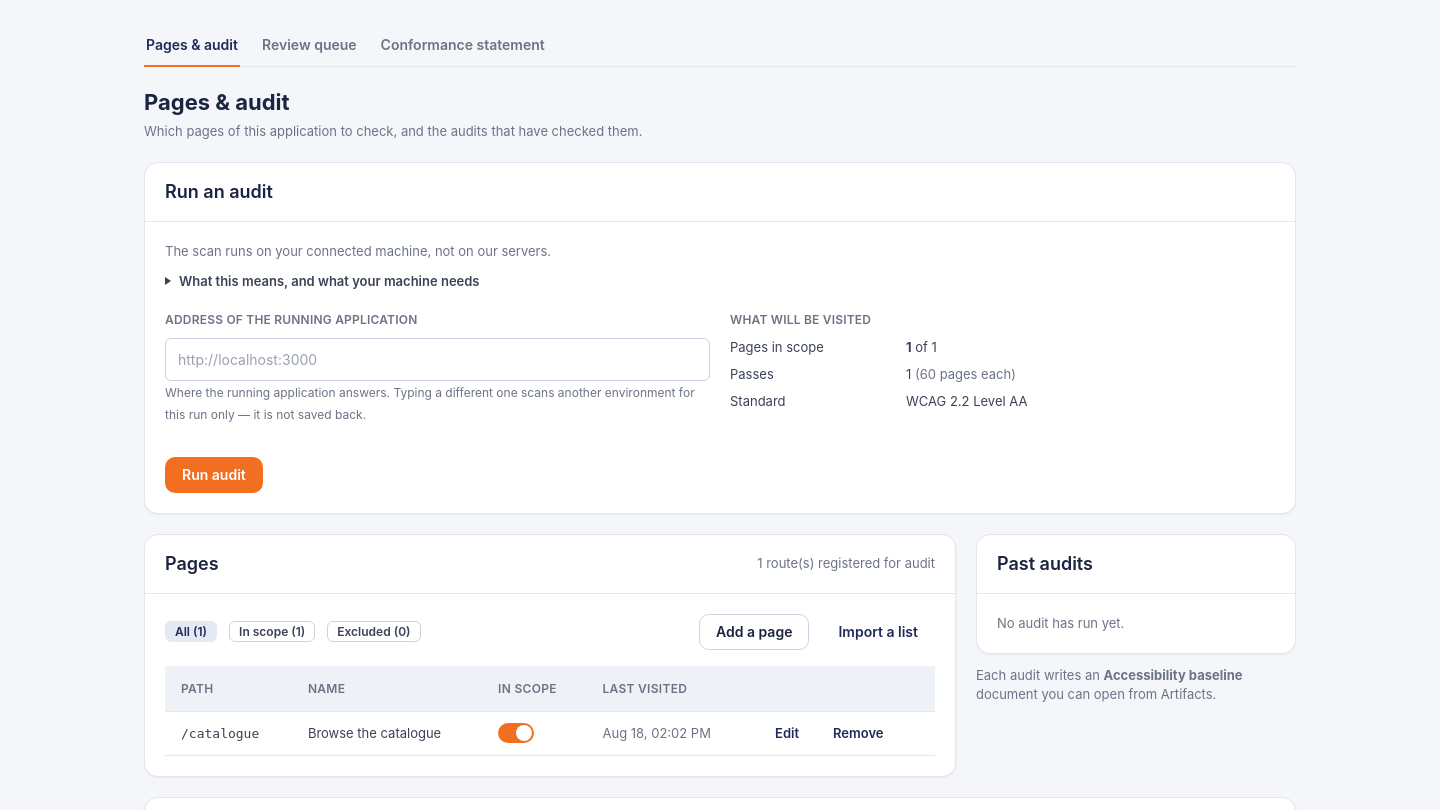
Test: S-38 adding pages › a list that cannot be read is refused in the platform's words, not the browser's
The width and height of the screenshot is (1440, 810).
Click the button "Import a list" at (878,632), box left=821, top=614, right=935, bottom=650
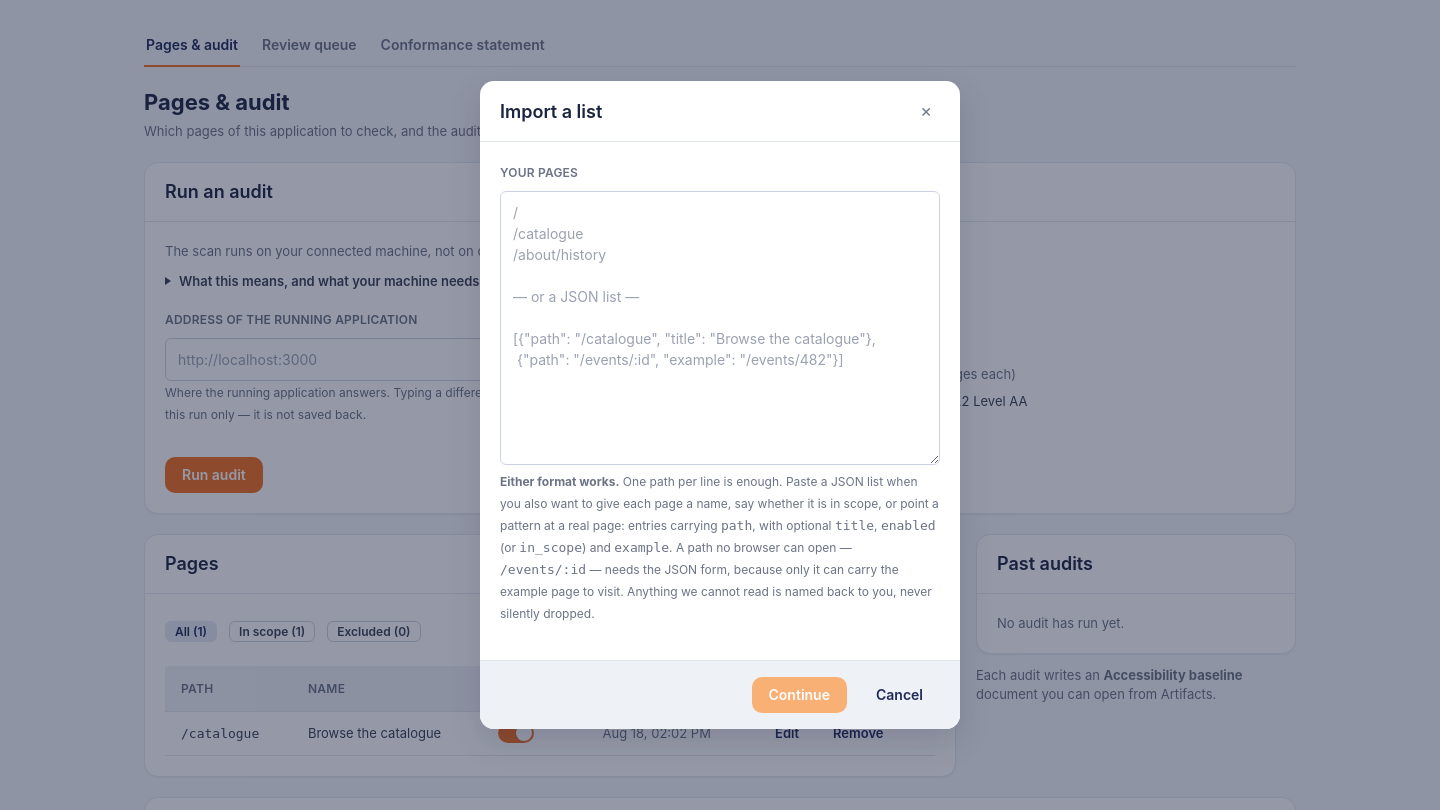
Click the text box labelled "Your pages" at (720,328), box left=500, top=191, right=940, bottom=465
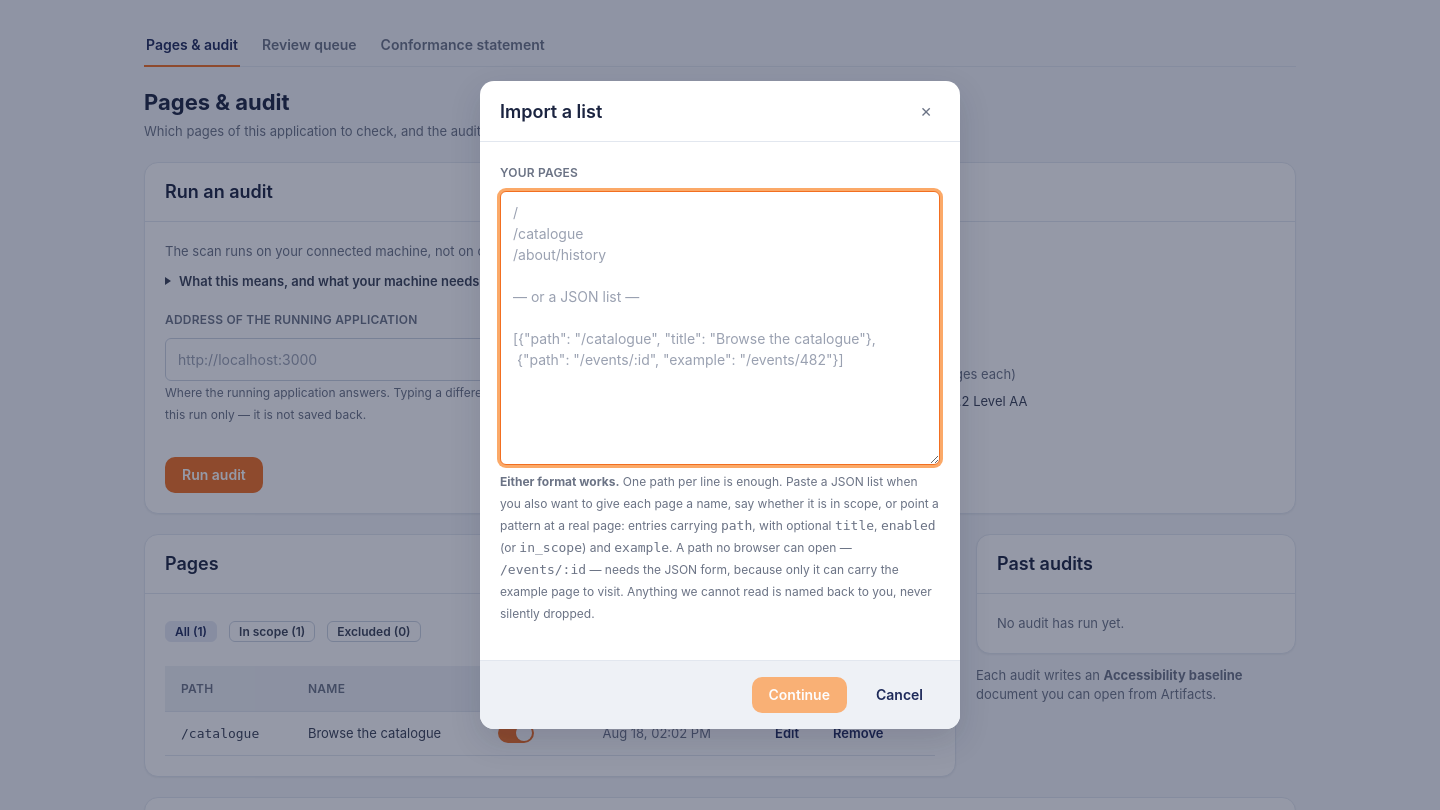
Type keys "/, /catalogue"
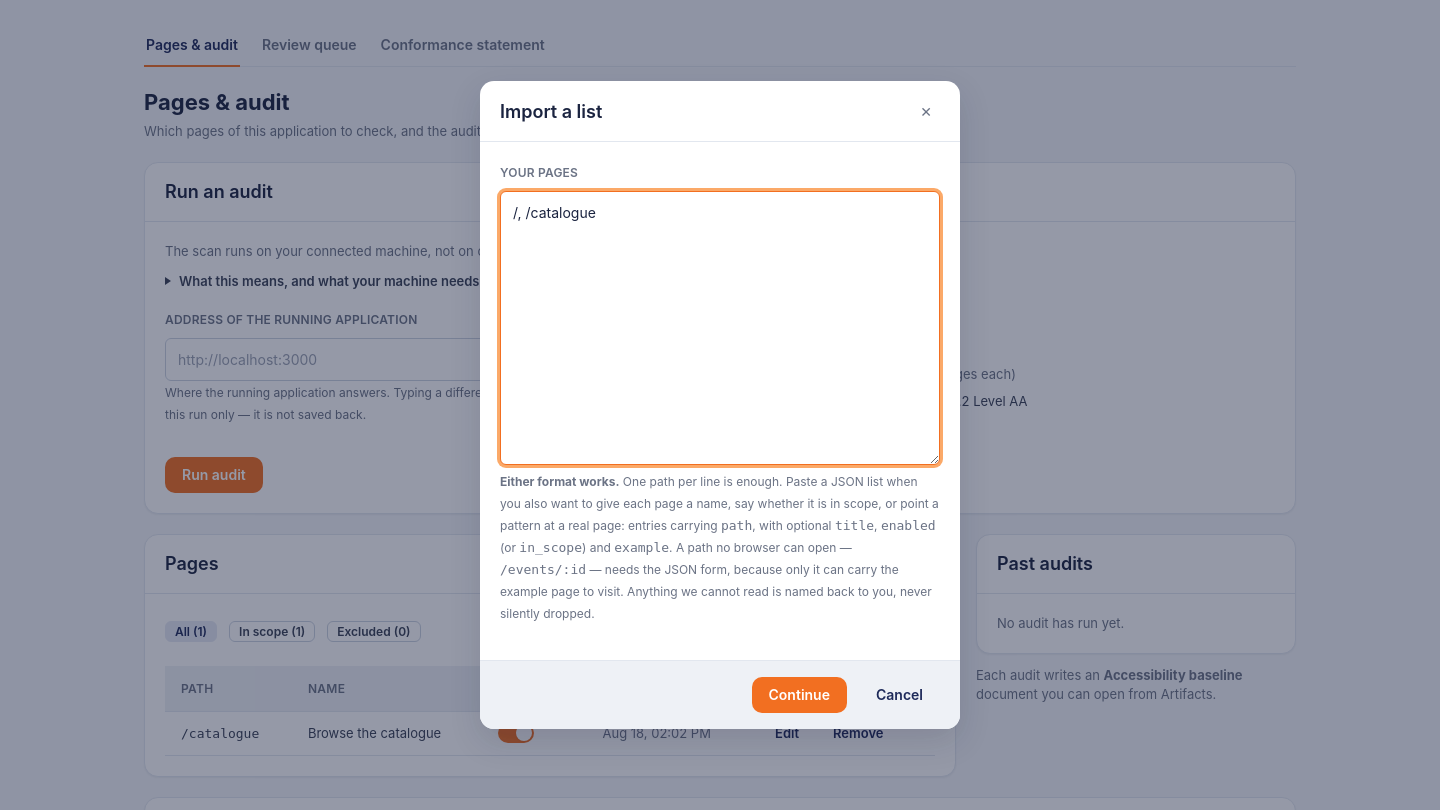
Click the button "Continue" at (799,695), box left=752, top=677, right=847, bottom=713
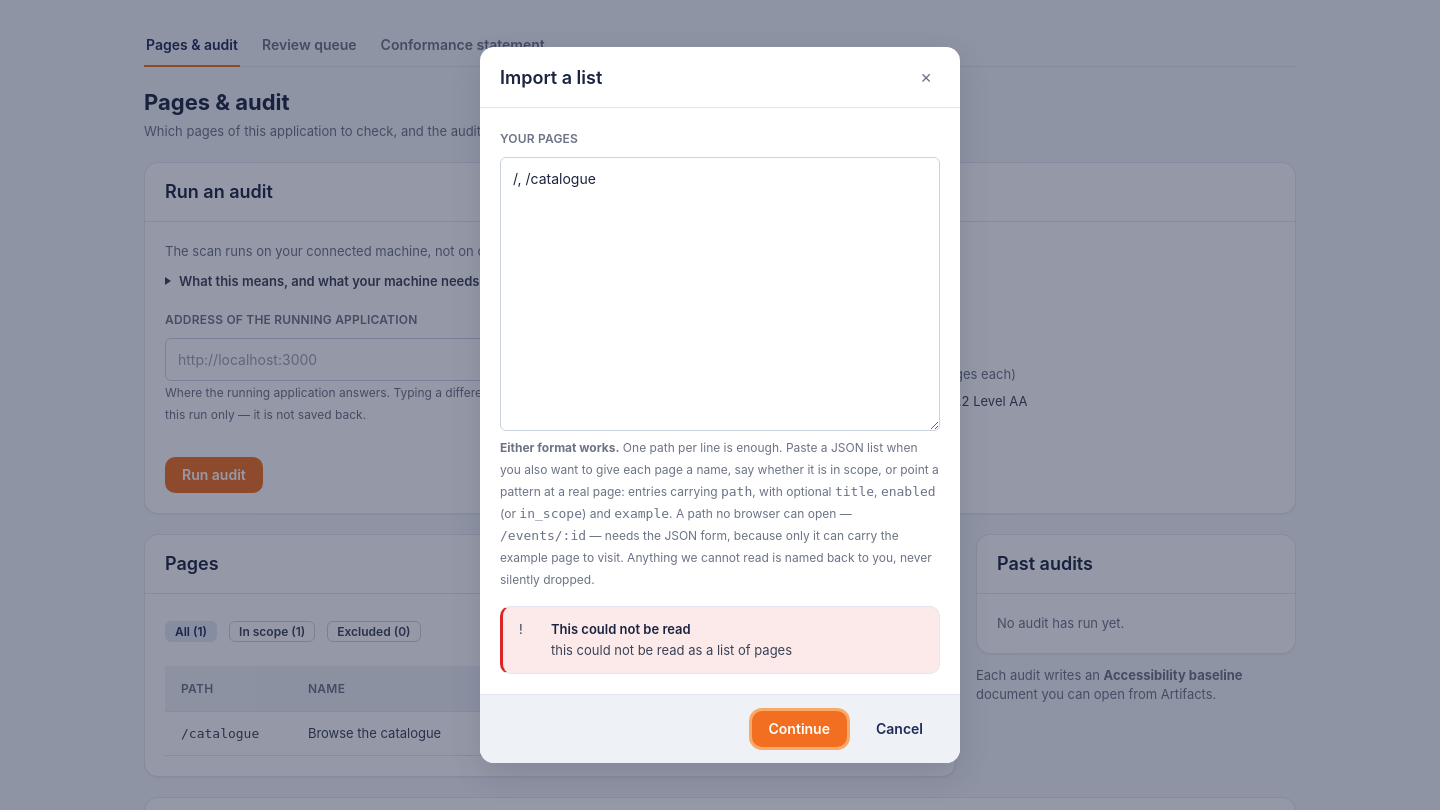
Expected: the text box labelled "Your pages" holds "/, /catalogue", left=500, top=157, right=940, bottom=431
Expected: the text "This could not be read" is shown, left=551, top=621, right=691, bottom=637
